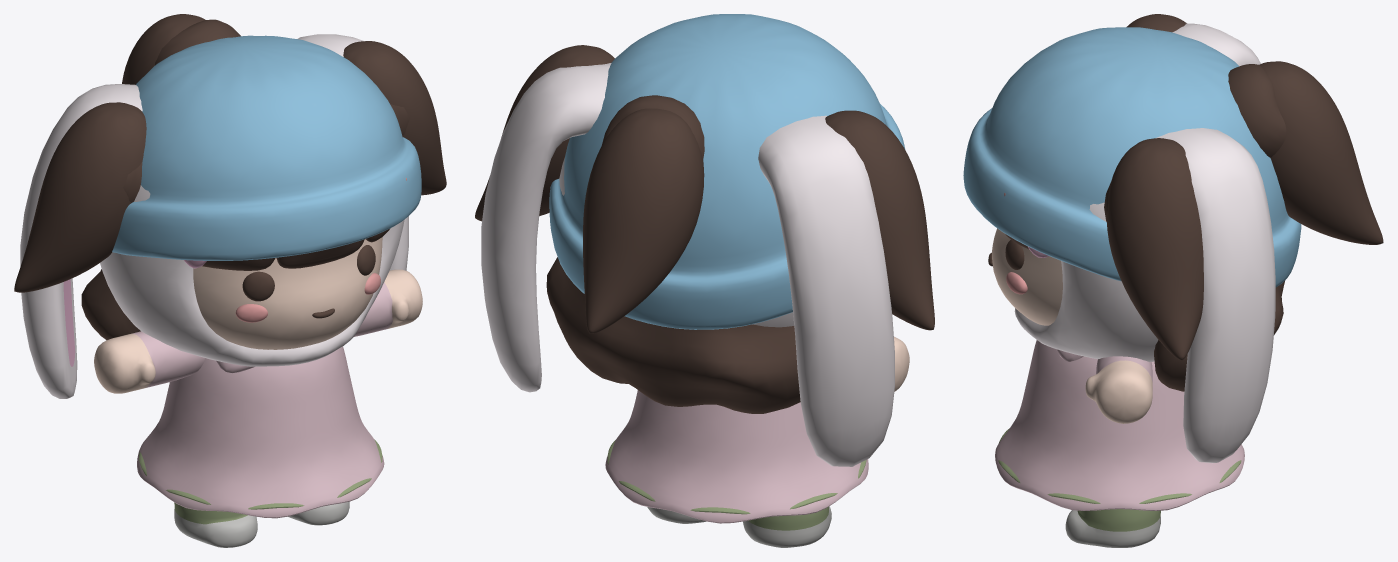
The model's file is character.gltf.
3 views of the same model, side by side, from view 1: azimuth 30°, elevation 25°; view 2: azimuth 150°, elevation 25°; view 3: azimuth 270°, elevation 25° (orthographic). The views are drawn at different scales.
Parts seen in each view (by area): view 1: hat, body3, pigtails, Head, Sphere, Cube 1-하양, hair2, armR-피부, ponytail, legR-t신발, armR-상의, armL-피부 (+11 smaller); view 2: hat, Cube 1-하양, body3, ponytail, Cube-하양, hair2, pigtails, bun, legR-t신발, legR-바지1, body2, armR-피부; view 3: hat, Cube-하양, body3, pigtails, ponytail, Sphere, Head, bun, armL-피부, legL-t신발, Cube 1-하양, legL-바지1 (+3 smaller).
Boxes of the visible parts, x1,y1,x2,y2 form: hat: (112, 35, 421, 260); body3: (137, 346, 384, 518); pigtails: (14, 41, 446, 292); Head: (193, 237, 382, 349); Sphere: (100, 185, 404, 366); Cube 1-하양: (20, 84, 142, 398); hair2: (81, 230, 388, 340); armR-피부: (94, 333, 155, 393); ponytail: (122, 14, 205, 84); legR-t신발: (174, 509, 257, 547); armR-상의: (132, 331, 205, 387); armL-피부: (384, 269, 422, 328); hat: (549, 14, 905, 329); Cube 1-하양: (758, 115, 894, 466); body3: (605, 390, 868, 523); ponytail: (583, 108, 704, 333); Cube-하양: (481, 63, 611, 392); hair2: (546, 257, 800, 413); pigtails: (475, 45, 934, 330); bun: (602, 95, 704, 159); legR-t신발: (743, 506, 831, 547); legR-바지1: (748, 506, 828, 530); body2: (607, 440, 866, 514); armR-피부: (894, 336, 909, 391); hat: (963, 27, 1301, 287); Cube-하양: (1155, 128, 1275, 463); body3: (995, 340, 1244, 510); pigtails: (1106, 14, 1203, 359); ponytail: (1259, 61, 1383, 244); Sphere: (1014, 202, 1158, 362); Head: (992, 228, 1062, 325); bun: (1228, 64, 1286, 157); armL-피부: (1085, 360, 1152, 423); legL-t신발: (1065, 510, 1160, 547); Cube 1-하양: (1172, 23, 1260, 66); legL-바지1: (1077, 509, 1160, 531).
Bounding box in the file's own units: 2.98 × 3.04 × 2.49.
